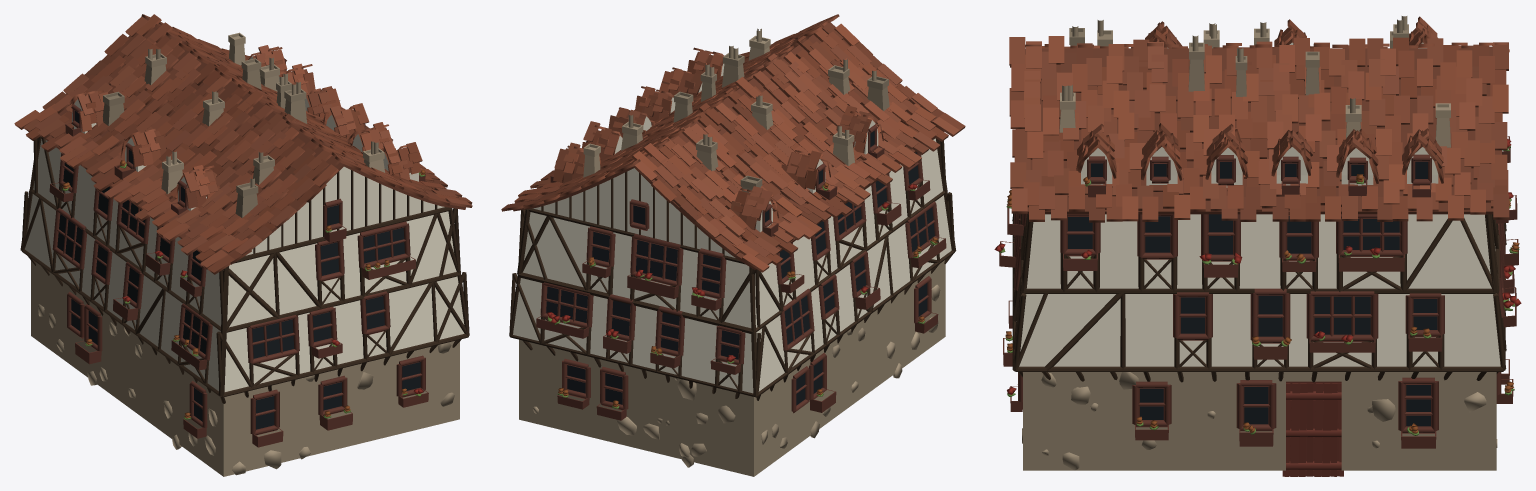
File: house_06.glb
The picture shows the model from 3 angles, left to right: view 1: azimuth 30°, elevation 25°; view 2: azimuth 150°, elevation 25°; view 3: azimuth 270°, elevation 25°; orthographic projection. The views are drawn at different scales.
Visible parts, largest first — view 1: house_06; view 2: house_06; view 3: house_06.
Part boxes in pixels (x1,y1,x2,y2): house_06: [14, 14, 472, 476]; house_06: [501, 14, 965, 476]; house_06: [994, 16, 1521, 476].
Bounding box in the file's own units: 7.84 × 8.77 × 10.75.
